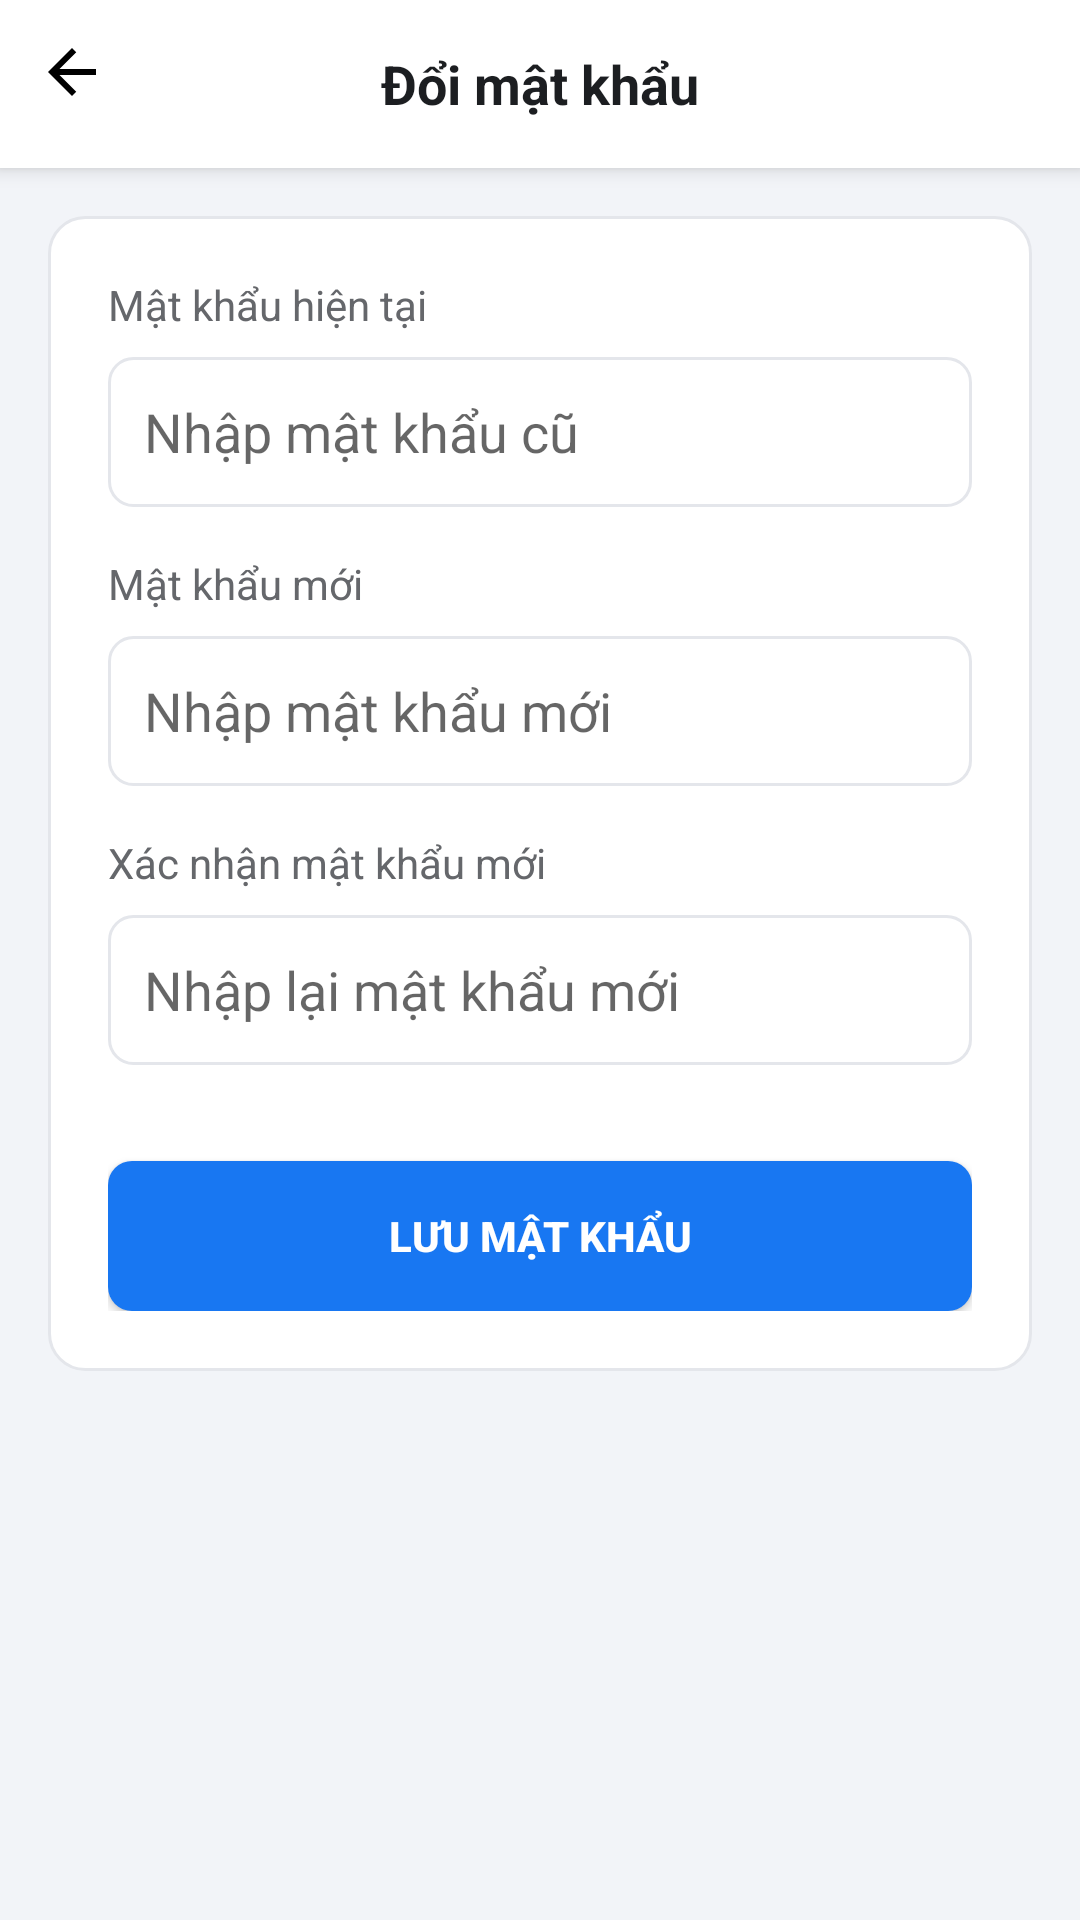

Icons on this 1080px x 1920px Android screen, each with its box as bbox=(x1, y1, x2, y2):
arrow back: bbox=(48, 48, 96, 96)
